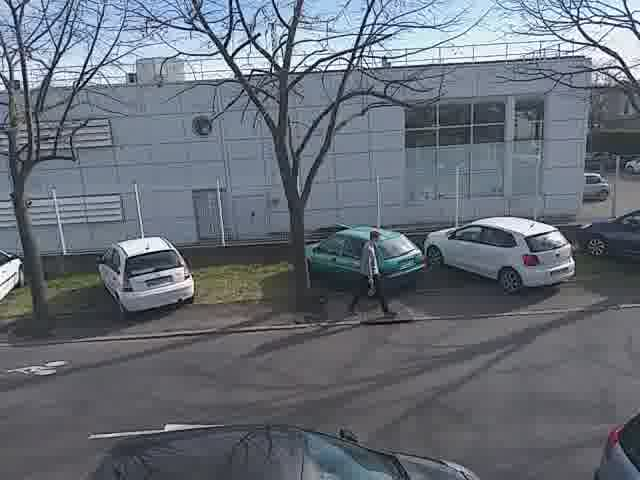persona: (345, 226, 394, 319)
